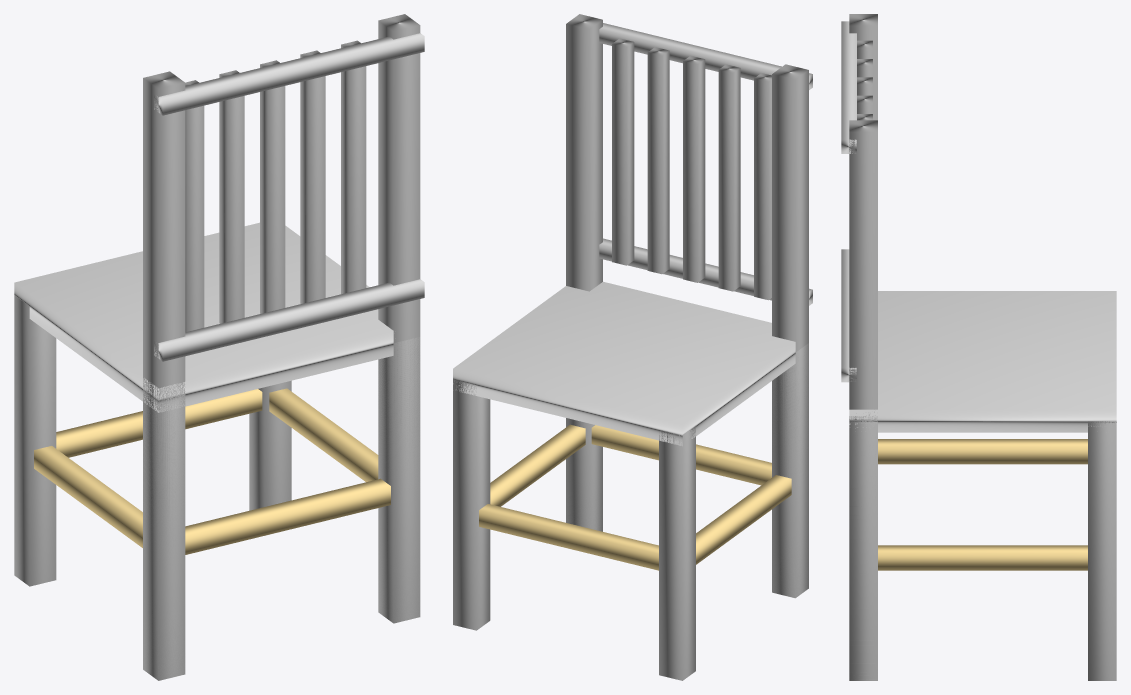
The picture shows the model from 3 angles, left to right: view 1: azimuth 30°, elevation 25°; view 2: azimuth 150°, elevation 25°; view 3: azimuth 270°, elevation 25°; orthographic projection. The views are drawn at different scales.
Visible parts, largest first — view 1: Seat, Cube.004, Cube.005, Leg_3, Leg_2, Leg_1, Cube.006, Bottom_Back_Rail, Cube.001, Cube.008, Cube.010, Cube.009 (+6 smaller); view 2: Seat, Cube.004, Cube.005, Leg_1, Leg_0, Leg_3, Cube.011, Cube.010, Cube.008, Cube.009, Cube, Cube.007 (+6 smaller); view 3: Seat, Cube.005, Leg_0, Leg_2, Cube.002, Cube.003, Cube.006, Bottom_Back_Rail, Cube.004.
Part boxes in pixels (x1,y1,x2,y2): Seat: (14,222,393,412); Cube.004: (143,71,185,680); Cube.005: (378,14,420,623); Leg_3: (143,389,185,680); Leg_2: (378,337,420,623); Leg_1: (14,295,56,586); Cube.006: (154,33,424,115); Bottom_Back_Rail: (154,279,424,361); Cube.001: (185,478,390,554); Cube.008: (219,70,244,323); Cube.010: (300,50,325,303); Cube.009: (260,60,285,313); Seat: (453,281,795,446); Cube.004: (772,64,808,597); Cube.005: (566,14,602,530); Leg_1: (659,426,695,680); Leg_0: (453,379,490,630); Leg_3: (772,343,808,597); Cube.011: (612,38,634,265); Cube.010: (647,47,669,274); Cube.008: (718,64,740,291); Cube.009: (683,55,705,282); Cube: (479,504,658,570); Cube.007: (754,73,771,300); Seat: (849,291,1116,432); Cube.005: (849,120,877,679); Leg_0: (1088,421,1116,680); Leg_2: (849,421,877,680); Cube.002: (878,545,1087,570); Cube.003: (878,439,1087,464); Cube.006: (841,21,856,153); Bottom_Back_Rail: (841,249,856,382); Cube.004: (849,14,877,120).
Bounding box in the file's own units: 0.44 × 0.95 × 0.4325.
